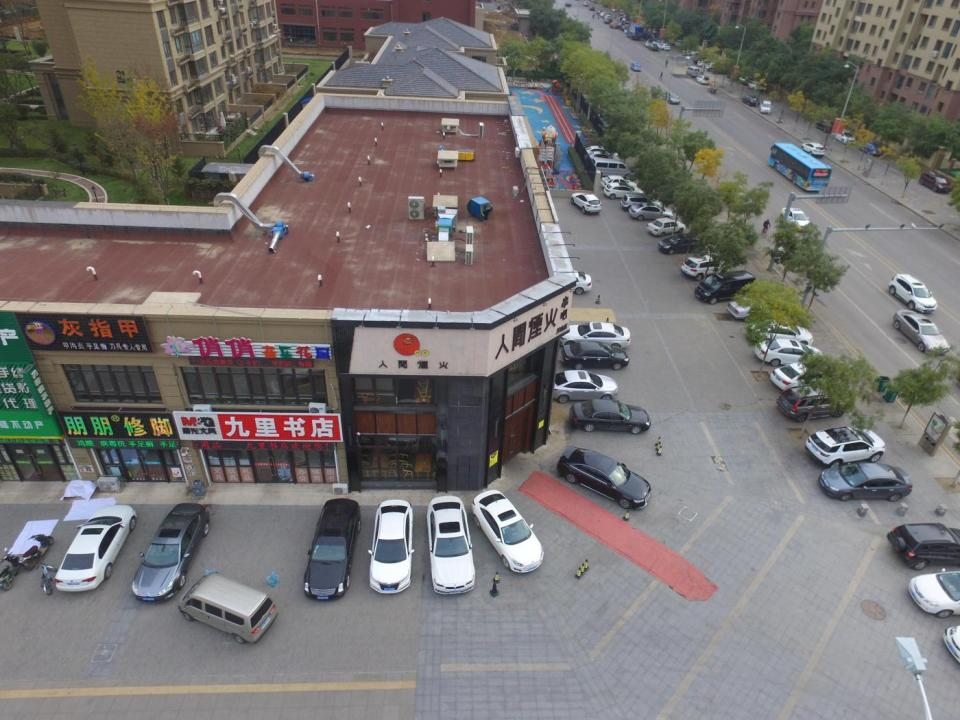bus: (769, 144, 831, 193)
car: (132, 502, 208, 600), (54, 504, 139, 591), (555, 446, 652, 511), (303, 498, 362, 600), (472, 491, 542, 575), (426, 498, 478, 593), (367, 500, 413, 596), (804, 425, 886, 469), (819, 465, 912, 502), (568, 400, 651, 433), (778, 386, 849, 424), (893, 309, 950, 356), (548, 371, 618, 405), (771, 362, 841, 394), (562, 322, 631, 353), (562, 339, 628, 371), (887, 272, 936, 314), (755, 340, 826, 368), (727, 289, 788, 321), (534, 268, 591, 297), (680, 252, 732, 282), (748, 324, 813, 346), (658, 233, 711, 257), (629, 201, 675, 223), (781, 206, 812, 232), (646, 217, 686, 237), (918, 170, 952, 192), (571, 191, 602, 214), (620, 195, 660, 210), (605, 186, 645, 201), (584, 146, 621, 162), (600, 176, 638, 191), (856, 139, 884, 157), (814, 116, 840, 134), (832, 127, 856, 146), (799, 142, 825, 158), (740, 94, 760, 107), (664, 90, 681, 105), (748, 80, 766, 94), (706, 60, 724, 73), (740, 73, 756, 85), (760, 101, 773, 114), (697, 58, 713, 68), (631, 60, 642, 72), (696, 75, 710, 84), (657, 43, 671, 50), (647, 44, 659, 51), (609, 22, 618, 30), (644, 40, 654, 47), (604, 17, 612, 23), (675, 40, 683, 46), (621, 26, 628, 32), (600, 12, 608, 17), (589, 5, 595, 11), (583, 2, 589, 6)
truck: (625, 24, 644, 40)
van: (179, 572, 277, 644), (696, 271, 755, 304), (590, 158, 635, 180), (686, 66, 702, 77)
